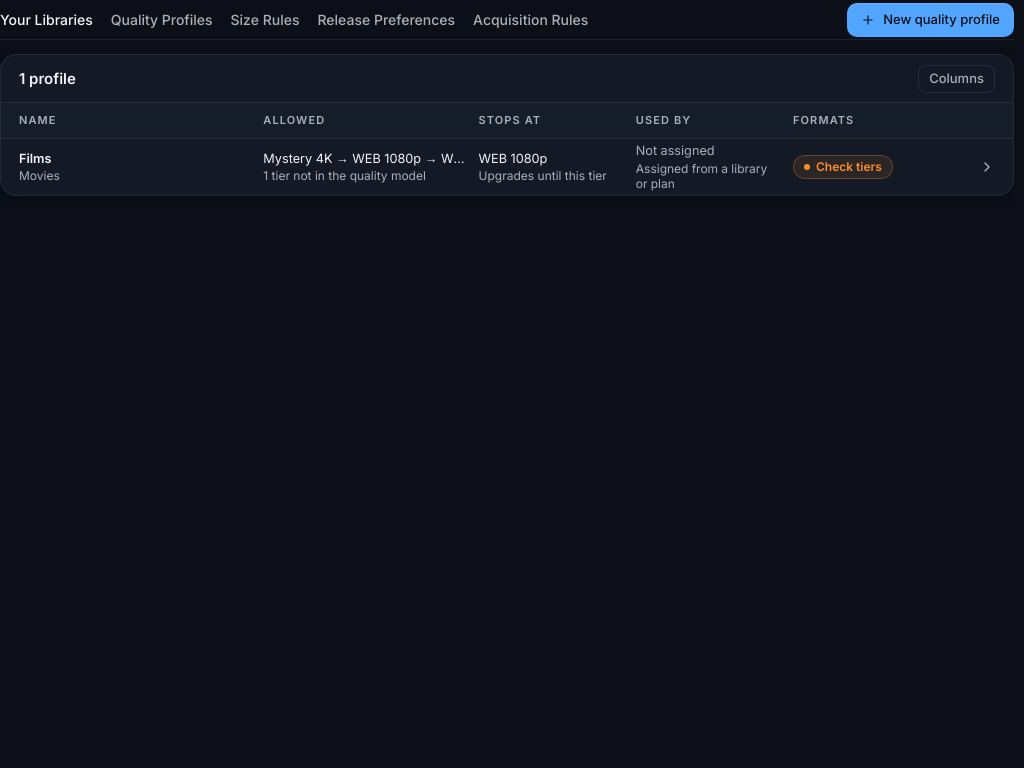
the seven questions and the tier list › offers only tiers not yet allowed under 'Add a tier', disables it when all are allowed, and adds in rank order
Click the text "Films" at (35, 158), box [19,151,52,166]
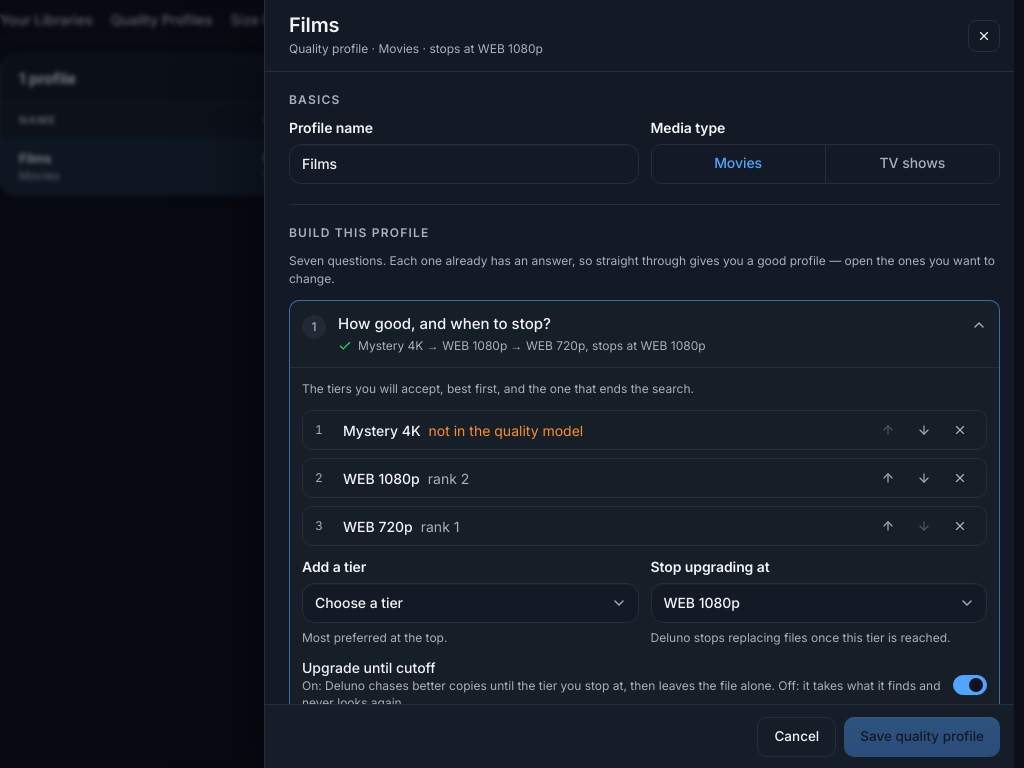
Click the button named "Remove Mystery 4K" at (960, 430), box [946,416,974,444]
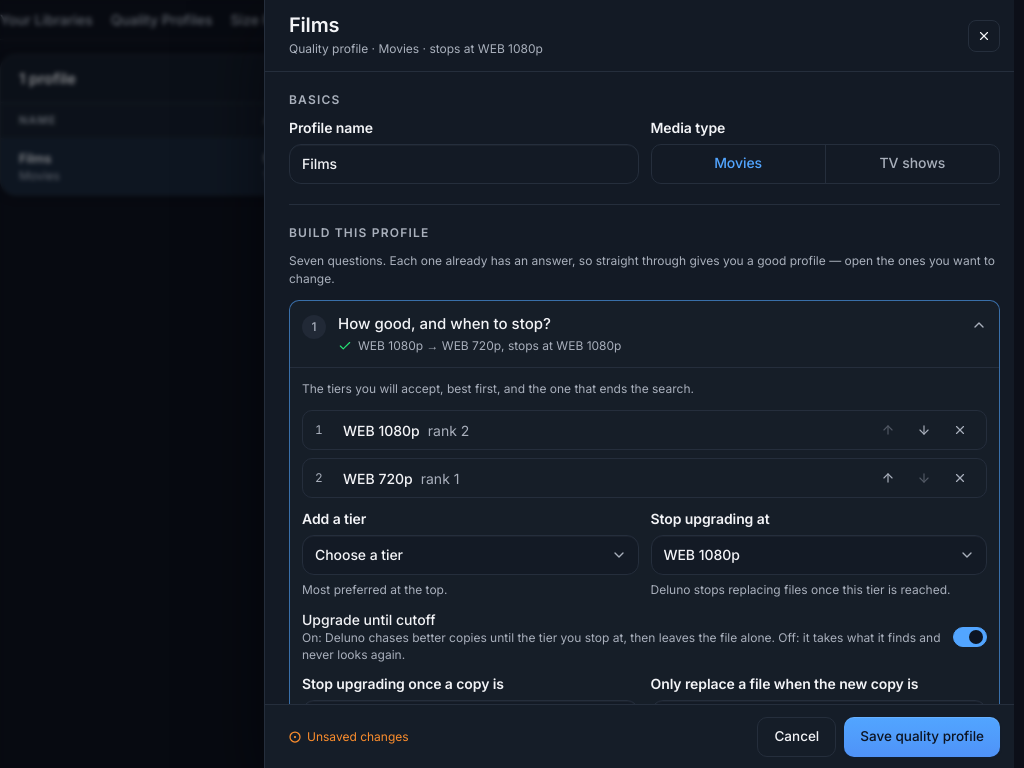
Select "Bluray 2160p · rank 3" in the dropdown labelled "Add a tier" at (470, 555), box [302,535,638,575]
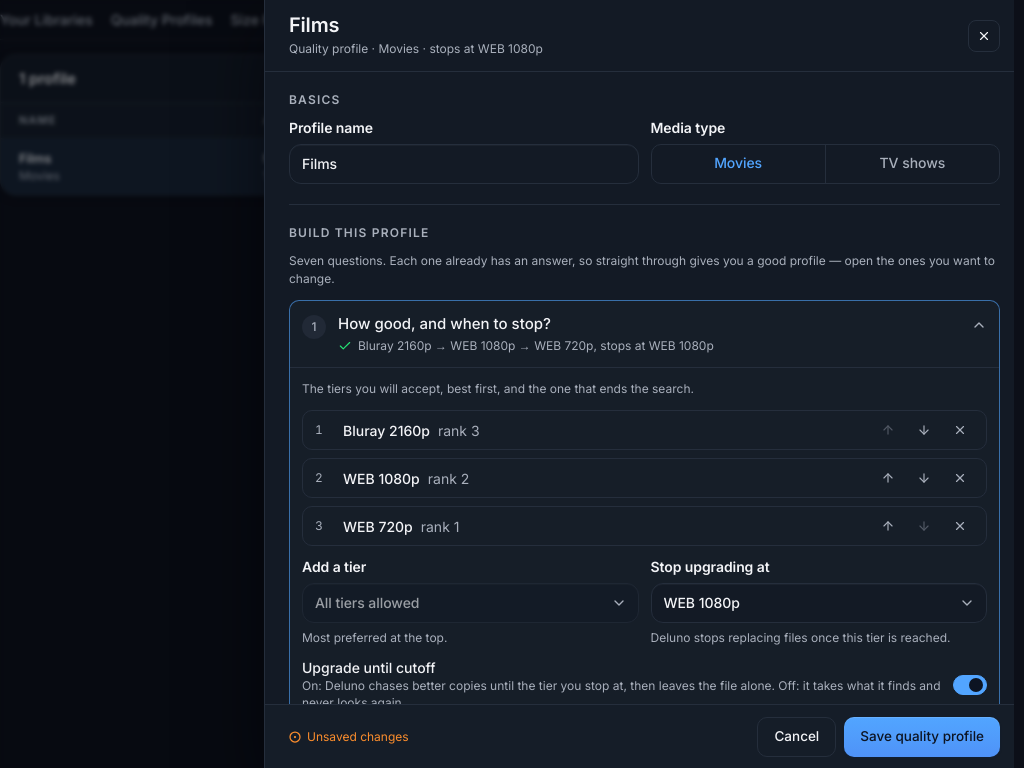
Check: the button named "Move Bluray 2160p up" is shown, box [874,416,902,444]
Check: the dropdown labelled "Add a tier" is disabled, box [302,583,638,623]
